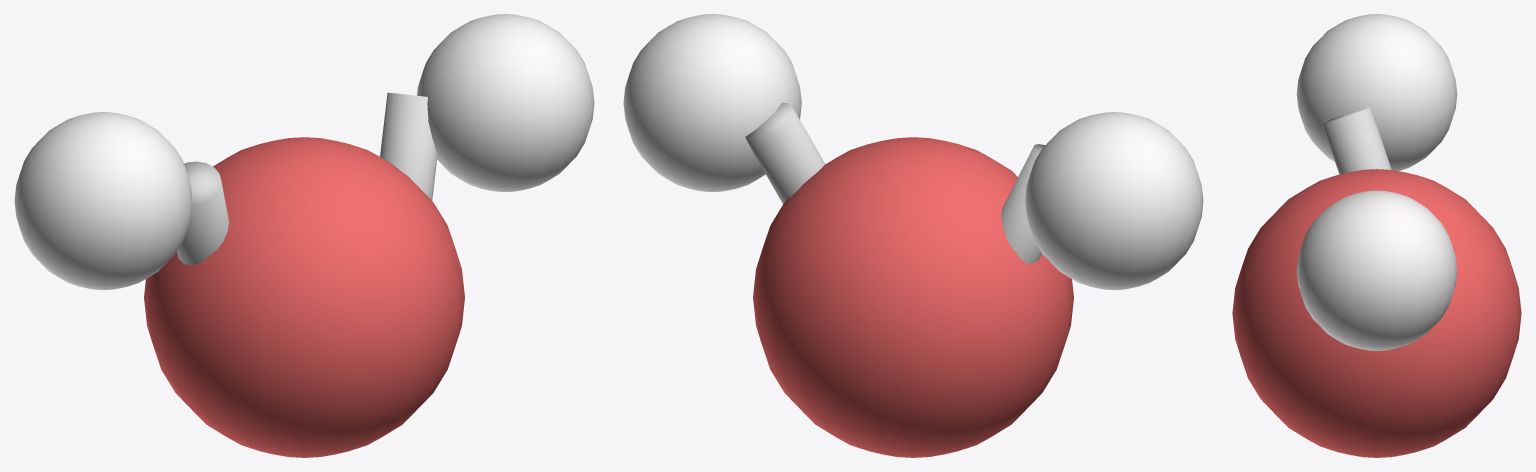
The model's file is water_molecule.glb.
The picture shows the model from 3 angles, left to right: view 1: azimuth 30°, elevation 25°; view 2: azimuth 150°, elevation 25°; view 3: azimuth 270°, elevation 25°; orthographic projection. The views are drawn at different scales.
Visible parts, largest first — view 1: o_node, h2_node, h1_node, b1_node, b2_node; view 2: o_node, h2_node, h1_node, b1_node, b2_node; view 3: o_node, h1_node, h2_node, b2_node.
Part boxes in pixels (x1,y1,x2,y2): o_node: (144,137,464,457); h2_node: (14,112,191,290); h1_node: (417,14,594,192); b1_node: (380,92,437,200); b2_node: (177,161,228,265); o_node: (753,137,1073,457); h2_node: (1025,112,1203,290); h1_node: (623,14,801,192); b1_node: (745,102,825,203); b2_node: (1001,144,1045,263); o_node: (1232,169,1521,457); h1_node: (1296,190,1457,350); h2_node: (1296,14,1457,170); b2_node: (1322,107,1391,174).
Size of the model in its own units: 1.8 by 1.15 by 0.9.
